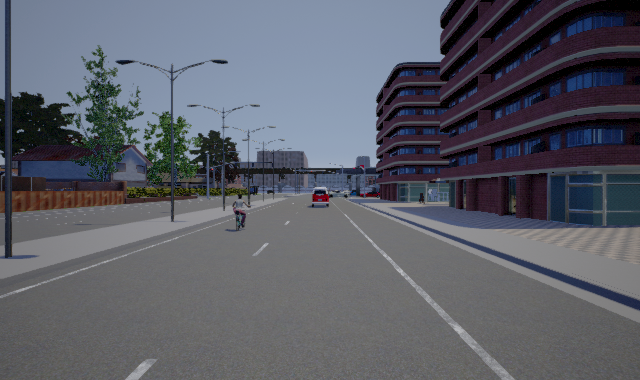bike: (231, 194, 250, 230)
vehicle: (311, 187, 330, 206)
